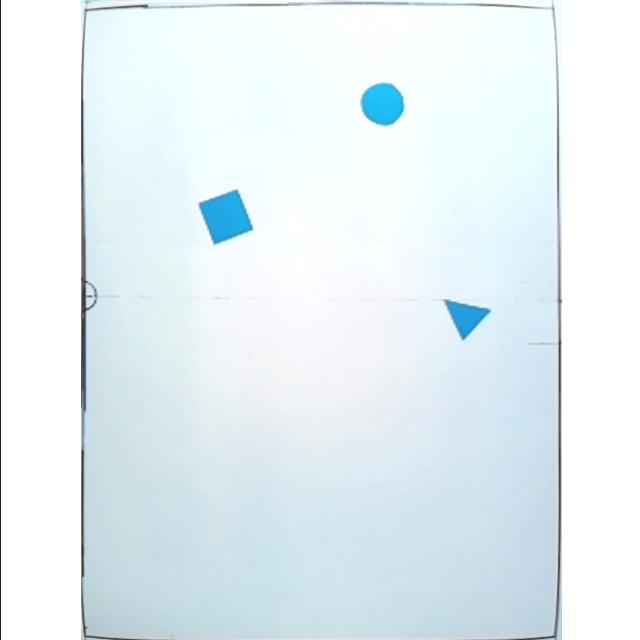blueCircle: (357, 82, 403, 126)
blueSquare: (195, 188, 252, 245)
blueTriangle: (440, 298, 490, 342)
